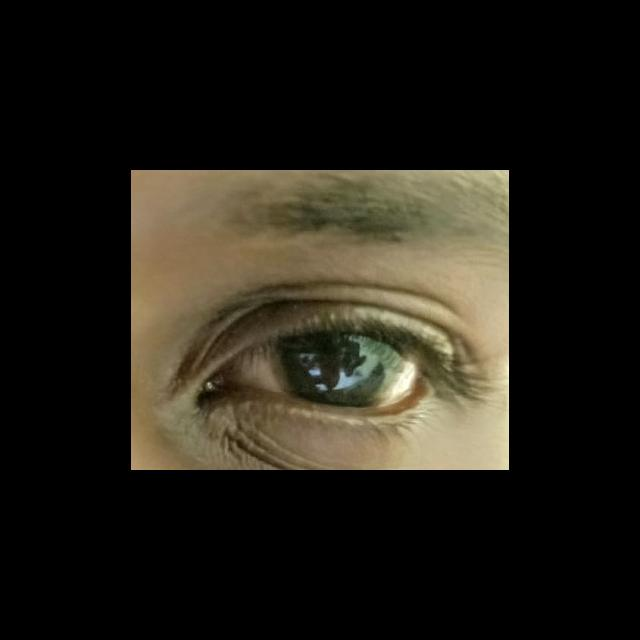eye: (227, 329, 417, 409)
iris: (276, 332, 401, 405)
